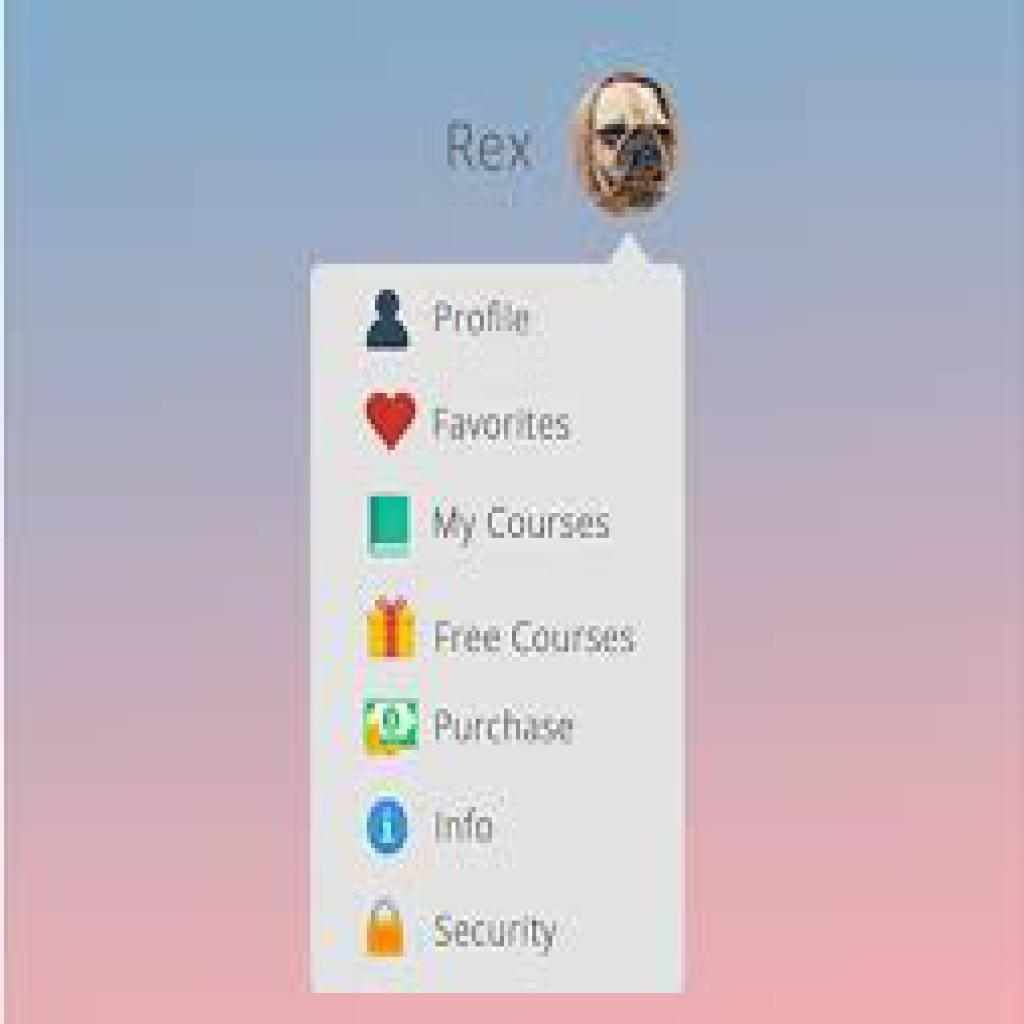icon: (358, 270, 423, 367), (355, 380, 426, 458), (356, 484, 426, 561), (356, 589, 424, 666), (358, 697, 427, 761), (364, 787, 414, 873), (365, 895, 412, 966)
label: (430, 495, 626, 558), (432, 612, 646, 663), (432, 700, 581, 759), (431, 400, 583, 453), (432, 908, 559, 961), (431, 287, 543, 346), (433, 803, 504, 855)
